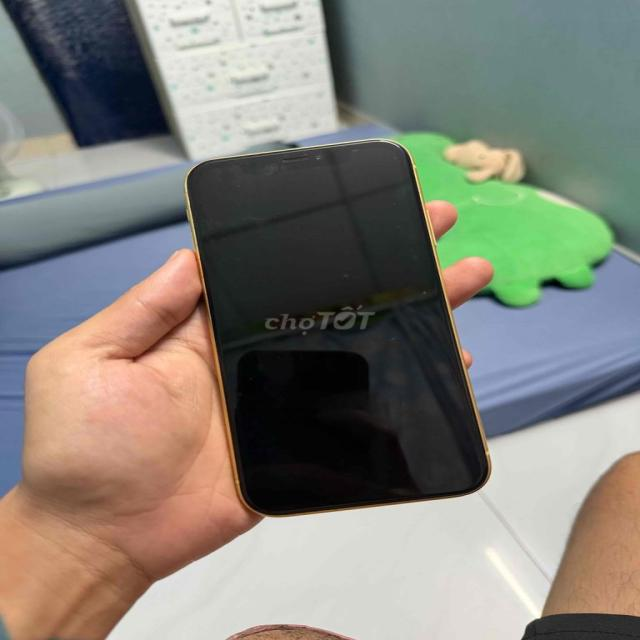gen_x_xs: (183, 139, 501, 522)
